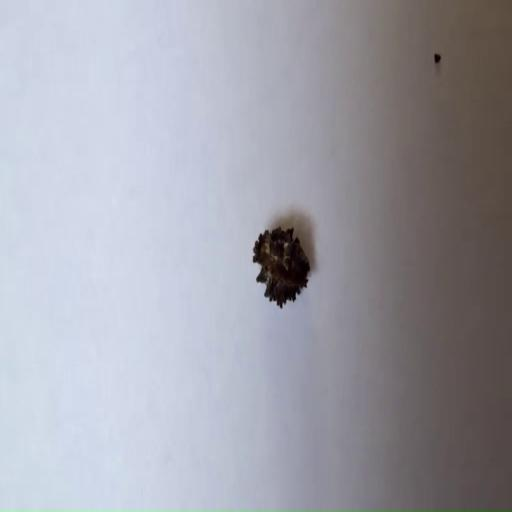papaya_seed: (242, 177, 326, 363)
